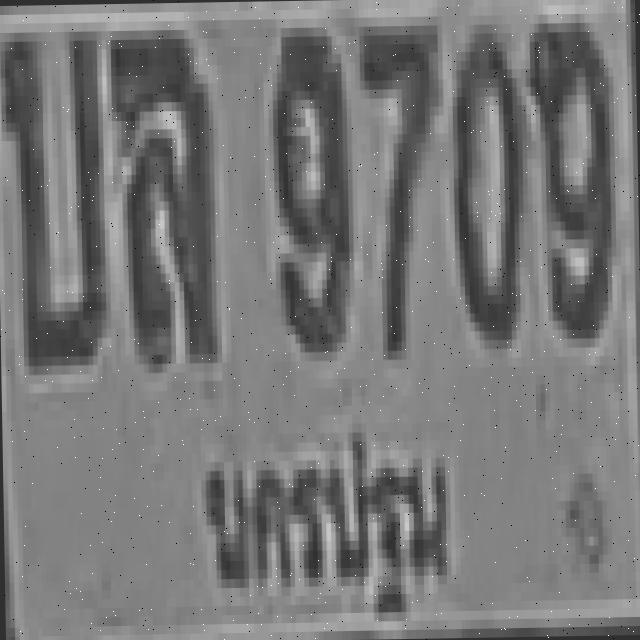0: (446, 14, 521, 340)
35BorBaiMai: (0, 16, 101, 361)
45LorLing: (108, 25, 215, 360)
7: (354, 16, 438, 351)
9: (266, 18, 351, 344), (528, 13, 612, 330)
NakhonPathom: (188, 421, 466, 630)
